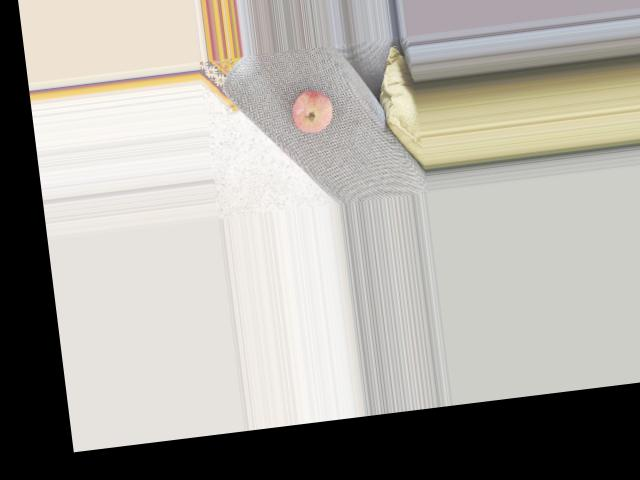apple: (287, 82, 340, 132)
